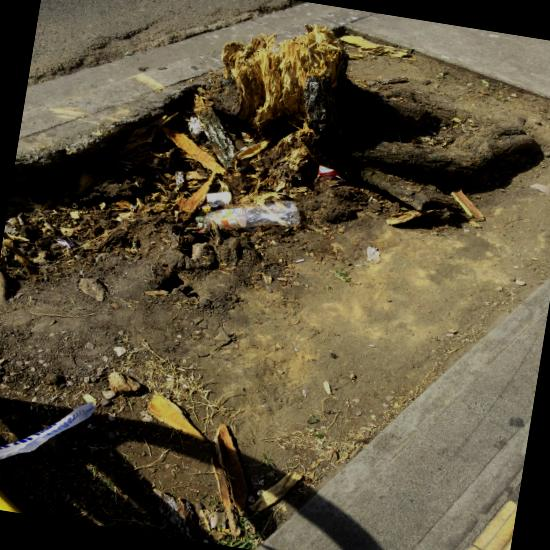Cigarette: (294, 259, 305, 263)
Clear plastic bottle: (195, 200, 300, 229)
Drink carton: (317, 165, 340, 179)
Foam cup: (206, 191, 228, 206)
Normal paper: (55, 237, 75, 250)
Plastic film: (0, 401, 95, 459), (192, 199, 220, 218)
Plastic straw: (335, 175, 345, 181)
